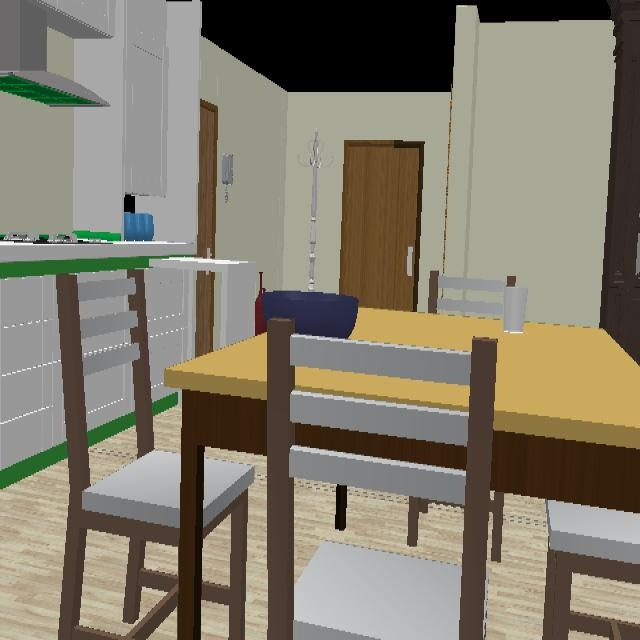cabinet: (0, 257, 201, 488), (30, 0, 169, 235)
chair: (267, 319, 498, 640), (56, 271, 181, 640), (202, 459, 256, 640)
stove: (0, 231, 124, 249)
table: (290, 308, 640, 515), (164, 332, 269, 640)
